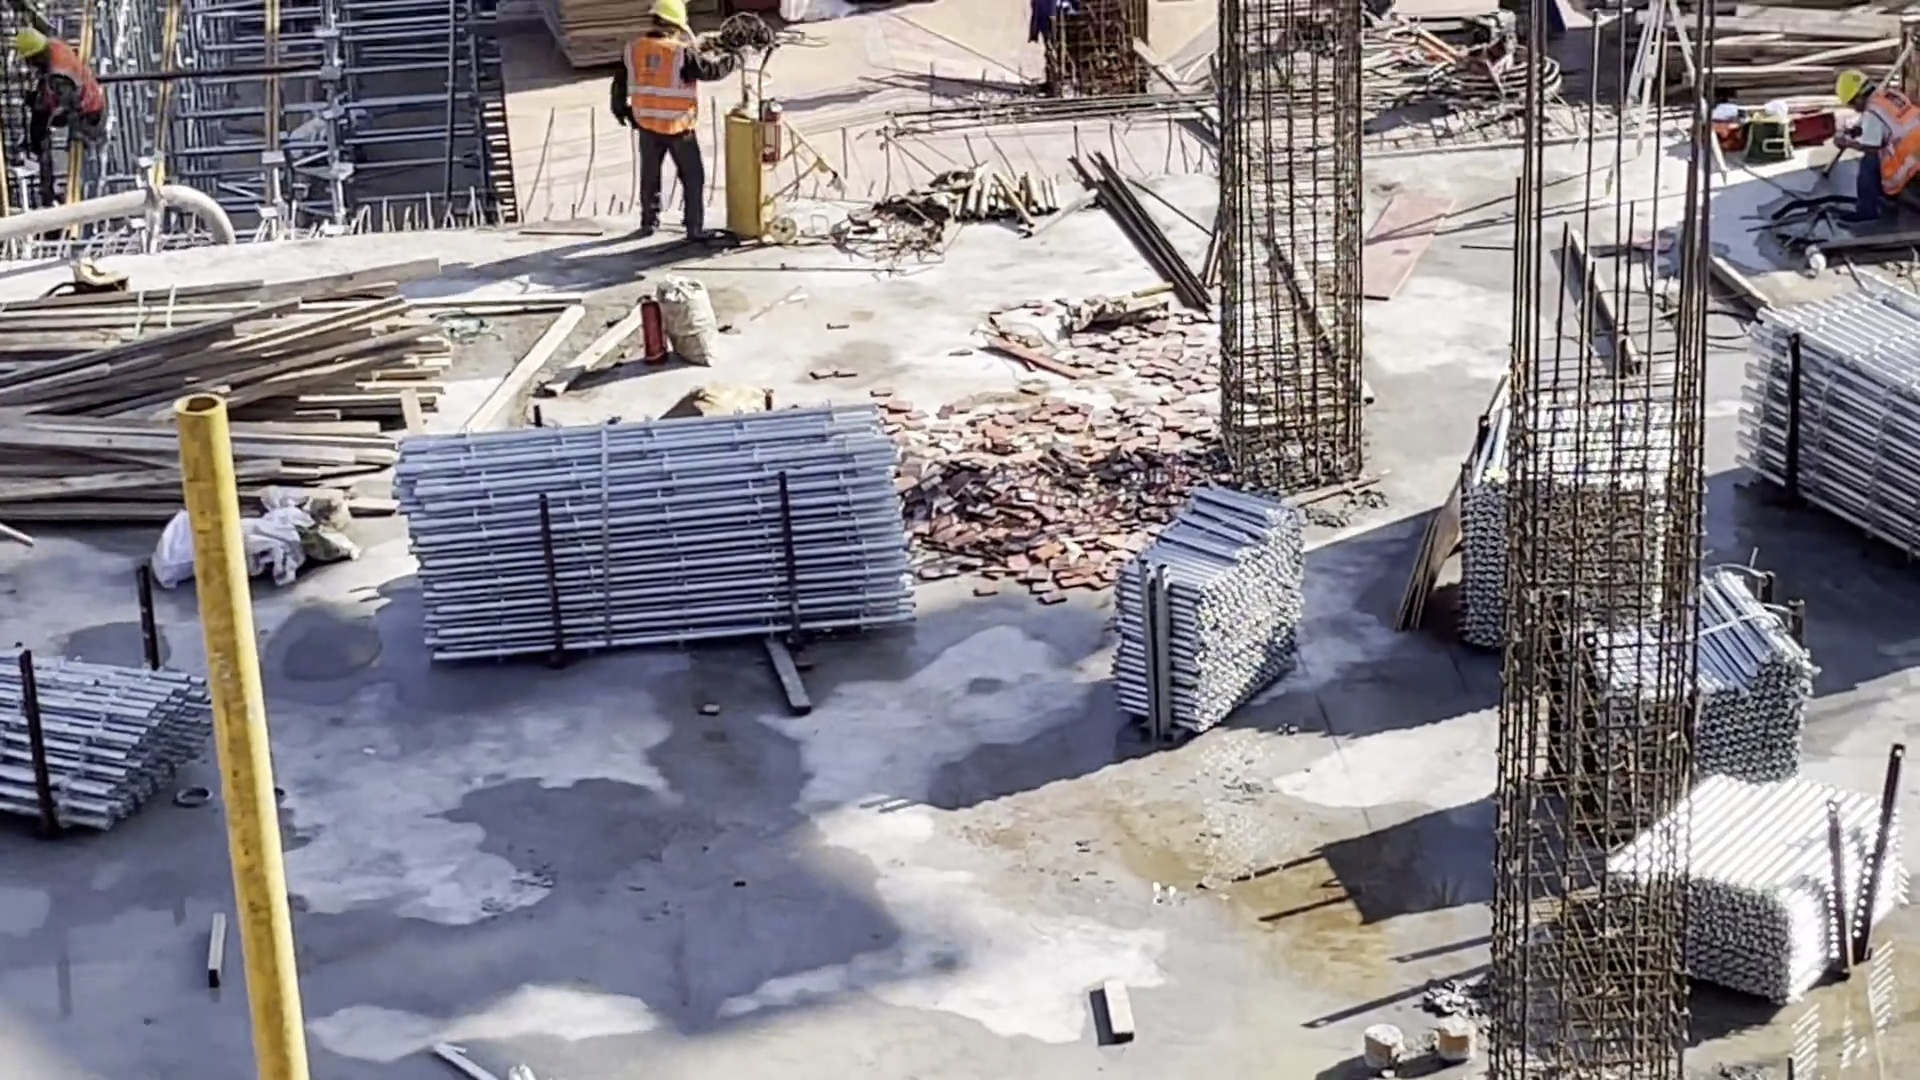helmet: (641, 1, 689, 32), (17, 25, 44, 65), (1839, 72, 1866, 105)
person: (612, 1, 728, 250), (1828, 65, 1920, 218), (11, 24, 115, 149)
vest: (625, 36, 698, 132), (1870, 91, 1920, 198), (44, 39, 106, 116)
